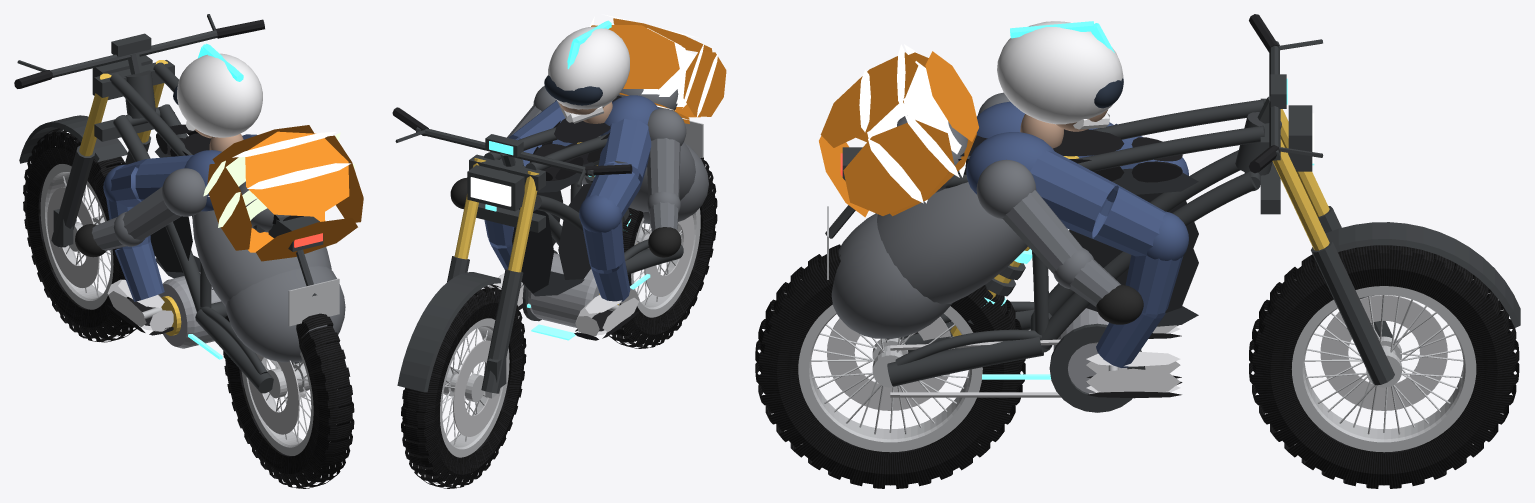
File: ebike.glb
3 views of the same model, side by side, from view 1: azimuth 30°, elevation 25°; view 2: azimuth 150°, elevation 25°; view 3: azimuth 270°, elevation 25° (orthographic). The views are drawn at different scales.
Parts seen in each view (by area): view 1: rider_upper, body, wheel_r, wheel_f, steer_parts, rider_lower; view 2: rider_upper, steer_parts, wheel_f, body, rider_lower, wheel_r; view 3: rider_upper, wheel_f, body, wheel_r, rider_lower, steer_parts.
Part boxes in pixels (left/top/right/bottom): rider_upper: left=75, top=43, right=363, bottom=362; body: left=110, top=62, right=339, bottom=397; wheel_r: left=223, top=313, right=354, bottom=488; wheel_f: left=23, top=128, right=136, bottom=342; steer_parts: left=14, top=14, right=264, bottom=247; rider_lower: left=103, top=134, right=257, bottom=335; rider_upper: left=450, top=14, right=726, bottom=257; steer_parts: left=392, top=107, right=632, bottom=398; wheel_f: left=401, top=284, right=526, bottom=488; body: left=484, top=95, right=703, bottom=340; rider_lower: left=484, top=95, right=658, bottom=340; wheel_r: left=606, top=157, right=717, bottom=348; rider_upper: left=819, top=21, right=1143, bottom=338; wheel_f: left=1249, top=245, right=1519, bottom=488; body: left=825, top=99, right=1281, bottom=412; wheel_r: left=755, top=244, right=1025, bottom=488; rider_lower: left=966, top=101, right=1188, bottom=398; steer_parts: left=1249, top=14, right=1520, bottom=386.
Bounding box in the file's own units: 0.8907 × 1.28 × 1.92.
23 materials, 1 textured.
